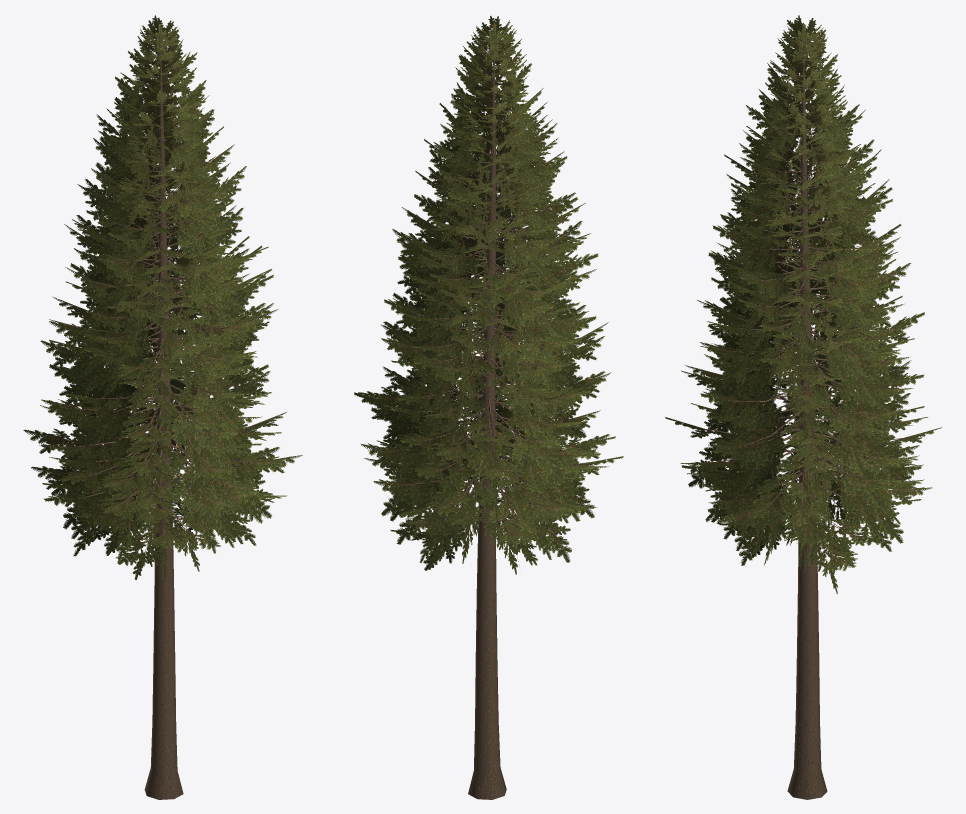
The model's file is fir_giant_a_lod1.gltf.
The picture shows the model from 3 angles, left to right: view 1: azimuth 30°, elevation 25°; view 2: azimuth 150°, elevation 25°; view 3: azimuth 270°, elevation 25°; orthographic projection.
Visible parts, largest first — view 1: fir_giant_a_LOD1; view 2: fir_giant_a_LOD1; view 3: fir_giant_a_LOD1.
Boxes of the visible parts, x1=… form: fir_giant_a_LOD1: x1=23, y1=15, x2=302, y2=799; fir_giant_a_LOD1: x1=354, y1=16, x2=623, y2=799; fir_giant_a_LOD1: x1=665, y1=15, x2=941, y2=799.
Bounding box in the file's own units: 13.98 × 40.6 × 14.05.
Materials: 2 (2 with a texture image).
